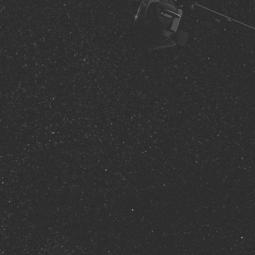earth_observation_sat_1: (115, 0, 255, 63)
